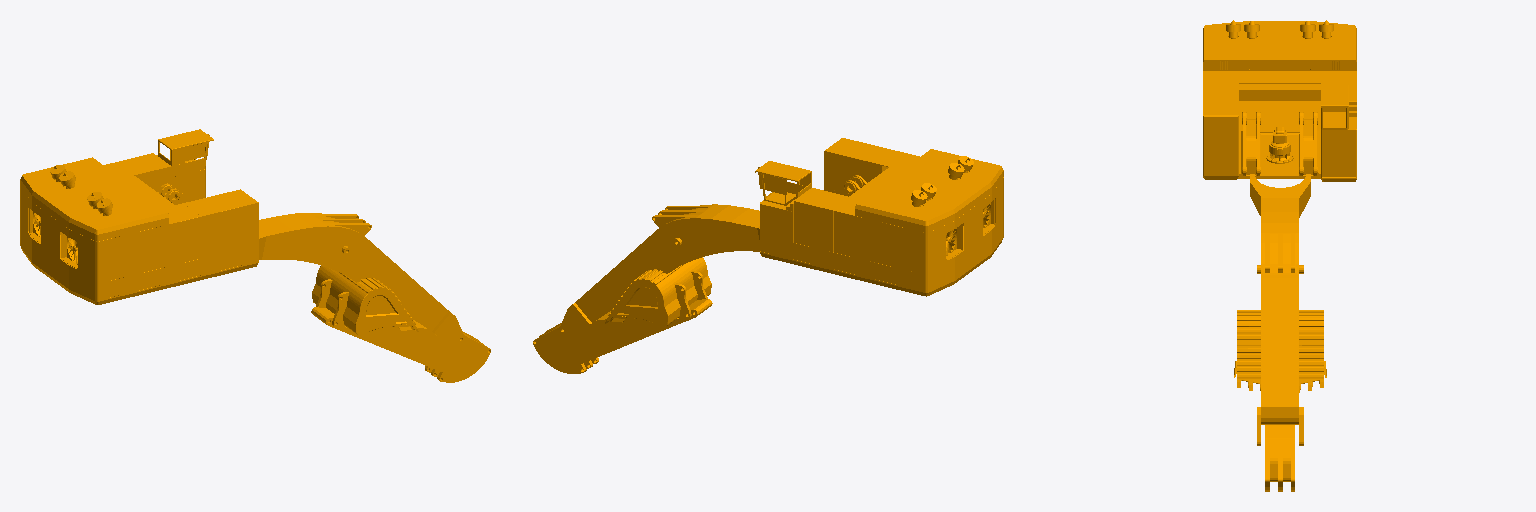
URDF robot description (waji):
<?xml version="1.0" encoding="utf-8"?>
<!-- This URDF was automatically created by SolidWorks to URDF Exporter! Originally created by Stephen Brawner (brawner@gmail.com) 
     Commit Version: 1.6.0-4-g7f85cfe  Build Version: 1.6.7995.38578
     For more information, please see http://wiki.ros.org/sw_urdf_exporter -->
<robot
  name="waji">
  <link
    name="fk_root" />
  <joint
    name="fk_root_to_base"
    type="fixed">
    <origin
      xyz="-0.06 0 -0.18"
      rpy="0 0 0" />
    <parent
      link="fk_root" />
    <child
      link="base_link" />
  </joint>
  <link
    name="base_link">
    <inertial>
      <origin
        xyz="0 0 0"
        rpy="0 0 0" />
      <mass
        value="41.3147963267949" />
      <inertia
        ixx="0.770559365895308"
        ixy="2.48926455700839E-16"
        ixz="3.93418960803584E-17"
        iyy="1.78668096589531"
        iyz="3.84096900551733E-17"
        izz="2.42266873852123" />
    </inertial>
    <visual>
      <origin
        xyz="0 0 0"
        rpy="0 0 0" />
      <geometry>
        <mesh
          filename="package://waji_description/meshes/base_link.STL" />
      </geometry>
      <material
        name="">
        <color
          rgba="1 1 1 1" />
      </material>
    </visual>
    <collision>
      <origin
        xyz="0 0 0"
        rpy="0 0 0" />
      <geometry>
        <mesh
          filename="package://waji_description/meshes/base_link.STL" />
      </geometry>
    </collision>
  </link>
  <link
    name="swing_link">
    <inertial>
      <origin
        xyz="0 0 0"
        rpy="0 0 0" />
      <mass
        value="4.9357" />
      <inertia
        ixx="0.040833"
        ixy="-0.00064685"
        ixz="-0.0022191"
        iyy="0.038399"
        iyz="0.00010444"
        izz="0.071254" />
    </inertial>
    <visual>
      <origin
        xyz="0 0 0"
        rpy="0 0 0" />
      <geometry>
        <mesh
          filename="package://waji_description/meshes/swing_Link.STL" />
      </geometry>
      <material
        name="">
        <color
          rgba="1.0 0.6667 0.0 1.0" />
      </material>
    </visual>
    <collision>
      <origin
        xyz="0 0 0"
        rpy="0 0 0" />
      <geometry>
        <mesh
          filename="package://waji_description/meshes/swing_Link.STL" />
      </geometry>
    </collision>
  </link>
  <joint
    name="swing_joint"
    type="revolute">
    <origin
      xyz="0 0 0"
      rpy="0 0 0" />
    <parent
      link="base_link" />
    <child
      link="swing_link" />
    <axis
      xyz="0 0 -1" />
    <limit
      lower="-1.57"
      upper="1.57"
      effort="0"
      velocity="0" />
  </joint>
  <link
    name="boom_link">
    <inertial>
      <origin
        xyz="0.406939368 0.0010288 0.0714421954"
        rpy="-1.570796327 0.186814715 0" />
      <mass
        value="38.93" />
      <inertia
        ixx="0.10554"
        ixy="0.16561"
        ixz="-1.7974E-06"
        iyy="1.2732"
        iyz="8.6025E-07"
        izz="1.3176" />
    </inertial>
    <visual>
      <origin
        xyz="0 0 0"
        rpy="-1.570796327 0.186814715 0" />
      <geometry>
        <mesh
          filename="package://waji_description/meshes/boom_Link.STL" />
      </geometry>
      <material
        name="">
        <color
          rgba="1.0 0.6667 0.0 1.0" />
      </material>
    </visual>
    <collision>
      <origin
        xyz="0 0 0"
        rpy="-1.570796327 0.186814715 0" />
      <geometry>
        <mesh
          filename="package://waji_description/meshes/boom_Link.STL" />
      </geometry>
    </collision>
  </link>
  <joint
    name="boom_joint"
    type="revolute">
    <origin
      xyz="0.05 0 0"
      rpy="0 0.52 0" />
    <parent
      link="swing_link" />
    <child
      link="boom_link" />
    <axis
      xyz="0 -1 0" />
    <limit
      lower="-3.14"
      upper="3.14"
      effort="0"
      velocity="0" />
  </joint>
  <link
    name="arm_link">
    <inertial>
      <origin
        xyz="0.0954817587 0.001029 0.0323566644"
        rpy="-1.570796327 -0.000719049 0" />
      <mass
        value="17.126" />
      <inertia
        ixx="0.020558"
        ixy="-0.028399"
        ixz="-9.5422E-15"
        iyy="0.2363"
        iyz="-2.0867E-15"
        izz="0.24251" />
    </inertial>
    <visual>
      <origin
        xyz="0 0 0"
        rpy="-1.570796327 -0.000719049 0" />
      <geometry>
        <mesh
          filename="package://waji_description/meshes/arm_Link.STL" />
      </geometry>
      <material
        name="">
        <color
          rgba="1.0 0.6667 0.0 1.0" />
      </material>
    </visual>
    <collision>
      <origin
        xyz="0 0 0"
        rpy="-1.570796327 -0.000719049 0" />
      <geometry>
        <mesh
          filename="package://waji_description/meshes/arm_Link.STL" />
      </geometry>
    </collision>
  </link>
  <joint
    name="arm_joint"
    type="revolute">
    <origin
      xyz="0.78 0 0"
      rpy="0 2.95 0" />
    <parent
      link="boom_link" />
    <child
      link="arm_link" />
    <axis
      xyz="0 -1 0" />
    <limit
      lower="-3.14"
      upper="3.14"
      effort="0"
      velocity="0" />
  </joint>
  <link
    name="bucket_link">
    <inertial>
      <origin
        xyz="0.093123 0.0010335 0.027716"
        rpy="-1.570796327 0 0" />
      <mass
        value="0.57431" />
      <inertia
        ixx="0.0034997"
        ixy="-0.0004223"
        ixz="1.0595E-07"
        iyy="0.0041016"
        iyz="1.4277E-07"
        izz="0.0023878" />
    </inertial>
    <visual>
      <origin
        xyz="0 0 0"
        rpy="-1.570796327 0 0" />
      <geometry>
        <mesh
          filename="package://waji_description/meshes/bucket_Link.STL" />
      </geometry>
      <material
        name="">
        <color
          rgba="1.0 0.6667 0.0 1.0" />
      </material>
    </visual>
    <collision>
      <origin
        xyz="0 0 0"
        rpy="-1.570796327 0 0" />
      <geometry>
        <mesh
          filename="package://waji_description/meshes/bucket_Link.STL" />
      </geometry>
    </collision>
  </link>
  <joint
    name="bucket_joint"
    type="revolute">
    <origin
      xyz="0.35 0 0"
      rpy="0 2.74 0" />
    <parent
      link="arm_link" />
    <child
      link="bucket_link" />
    <axis
      xyz="0 -1 0" />
    <limit
      lower="-3.14"
      upper="3.14"
      effort="0"
      velocity="0" />
  </joint>
  <link
    name="bucket_tip" />
  <joint
    name="bucket_to_tip"
    type="fixed">
    <origin
      xyz="0.2 0 0"
      rpy="0 1.1 0" />
    <parent
      link="bucket_link" />
    <child
      link="bucket_tip" />
  </joint>
</robot>

--- Render facts (derived) ---
Views: 3 orthographic renders of the robot side by side, from view 1: azimuth 30°, elevation 25°; view 2: azimuth 150°, elevation 25°; view 3: azimuth 270°, elevation 25°.
Robot: waji — 7 links, 6 joints (4 revolute, 2 fixed); root link fk_root; default pose: all joints at 0.
Links seen in each view (by area): view 1: swing_link, boom_link, arm_link, bucket_link; view 2: swing_link, boom_link, arm_link, bucket_link; view 3: swing_link, boom_link, bucket_link, arm_link.
Link boxes in pixels (bbox=[...]): swing_link: bbox=[20, 129, 258, 304]; boom_link: bbox=[259, 213, 464, 342]; arm_link: bbox=[311, 307, 490, 382]; bucket_link: bbox=[312, 266, 418, 334]; swing_link: bbox=[755, 138, 1003, 296]; boom_link: bbox=[559, 204, 759, 334]; arm_link: bbox=[533, 299, 712, 373]; bucket_link: bbox=[605, 257, 711, 326]; swing_link: bbox=[1203, 20, 1356, 181]; boom_link: bbox=[1250, 174, 1310, 445]; bucket_link: bbox=[1234, 310, 1326, 392]; arm_link: bbox=[1265, 425, 1294, 491].
Size in the robot's own frame: 1.18 by 0.3623 by 0.7349 metres.
4 mesh visuals loaded from 5 distinct referenced files (4 binary STL); not drawn: 1 (reference not matched to a file when rendering).
